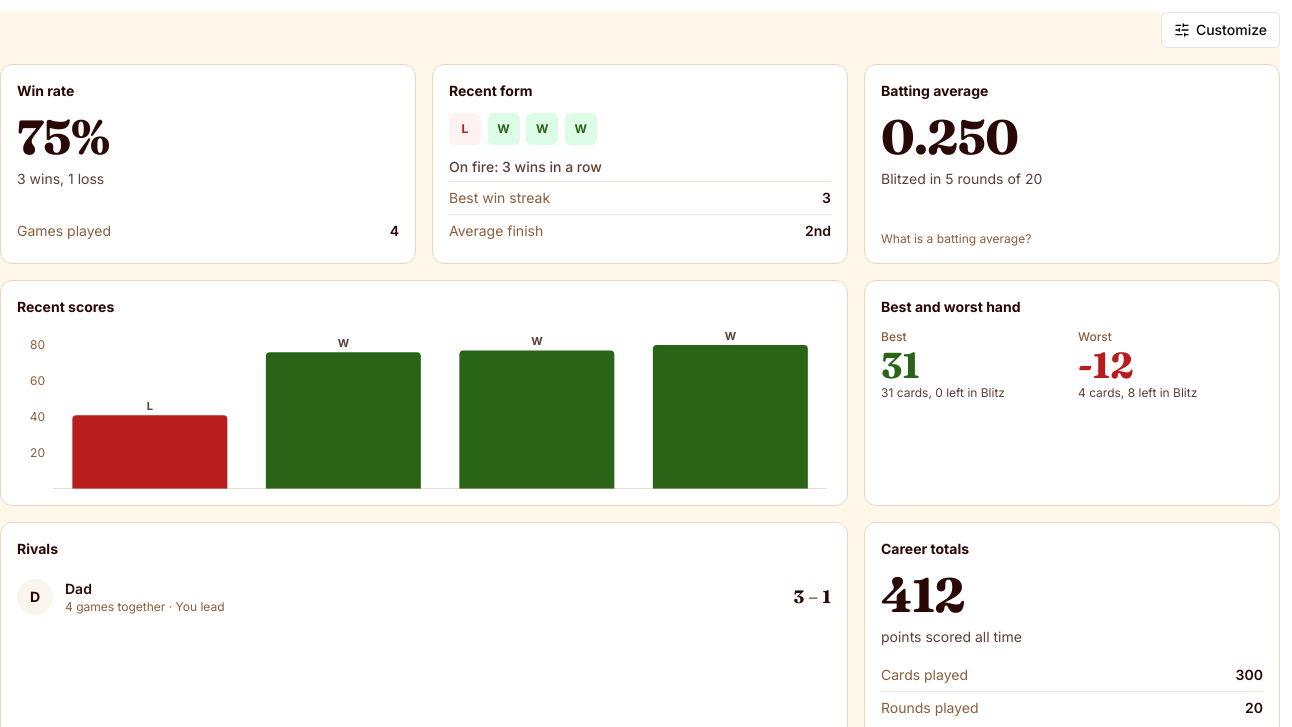
Test: DashboardGrid › tells the user when a save fails
Click the button "Customize".
click(1220, 30)  # box [1161, 12, 1280, 48]
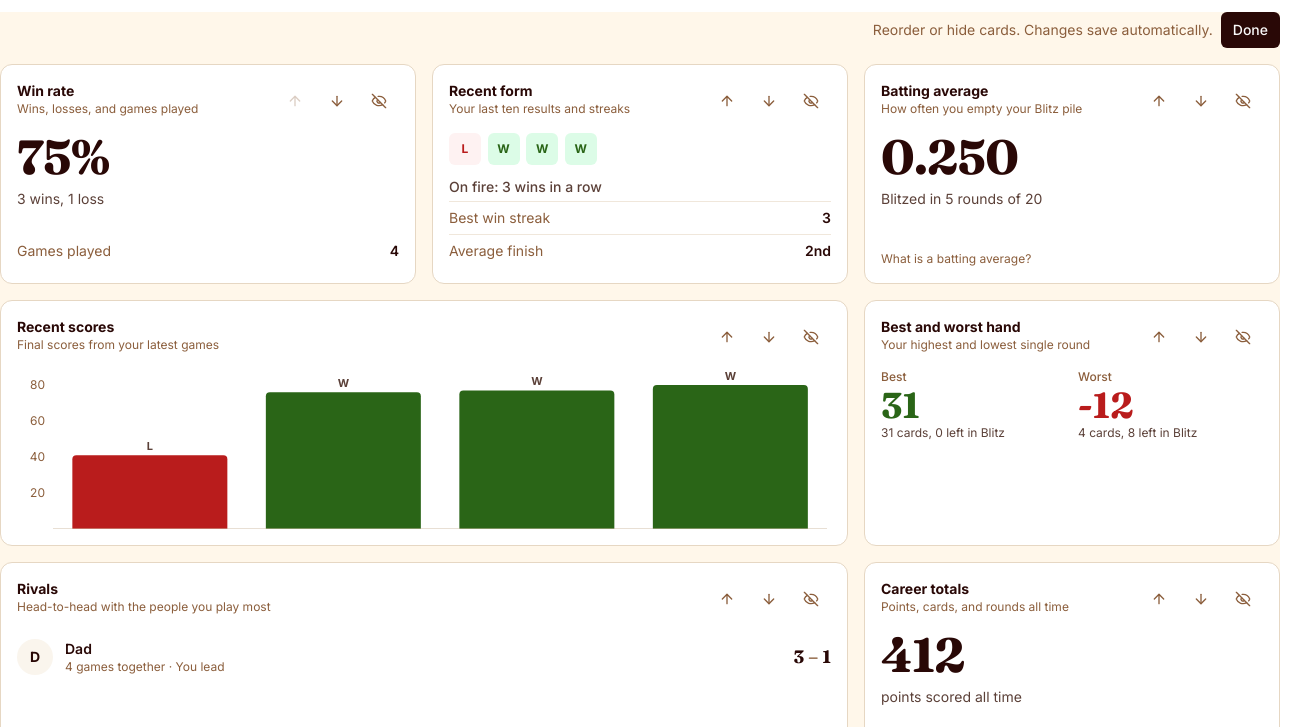
Click the button named "Hide Rivals".
click(811, 599)  # box [791, 579, 831, 619]
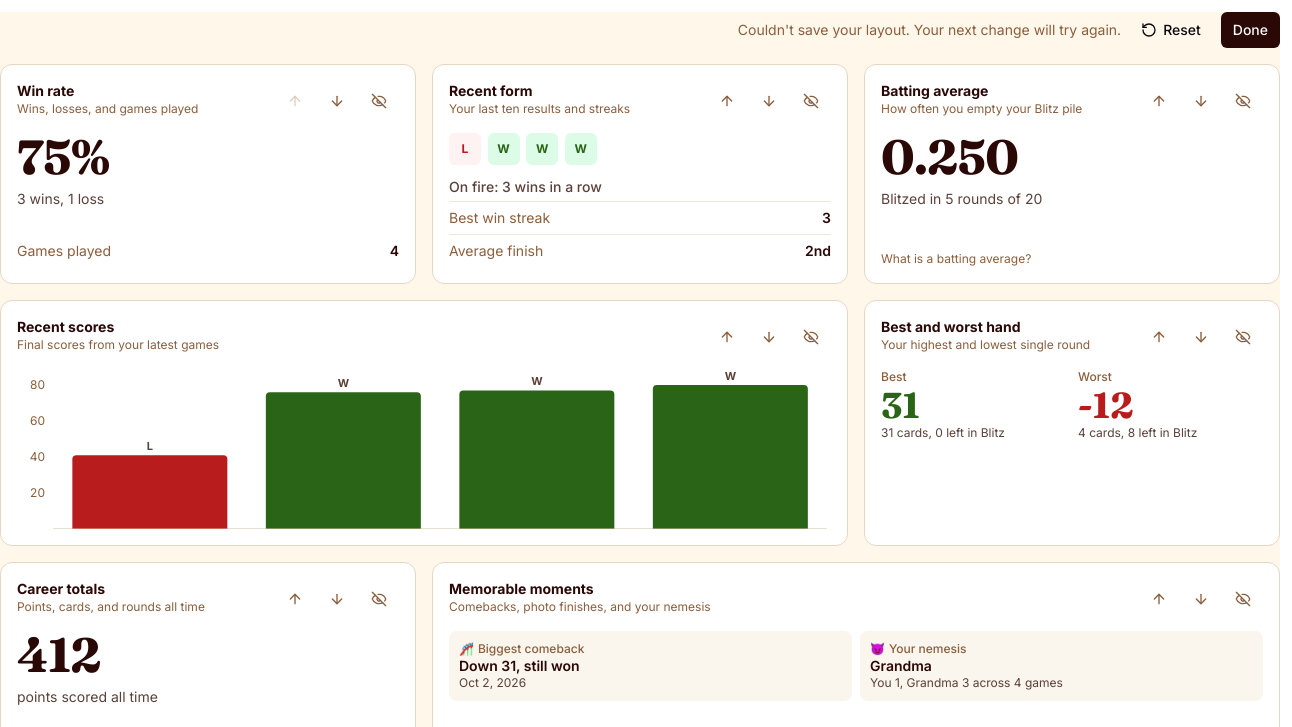
Expected: the message shows "Couldn't save your layout", [738, 21, 1121, 38]
